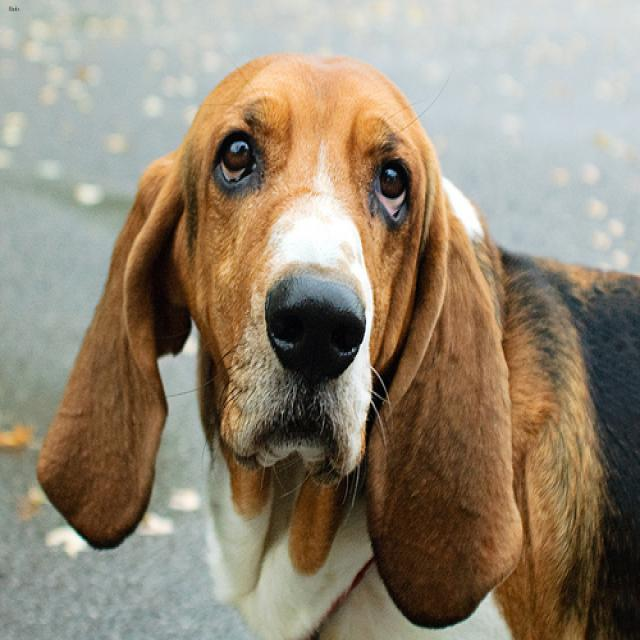dog-basset_hound: (22, 35, 637, 637)
